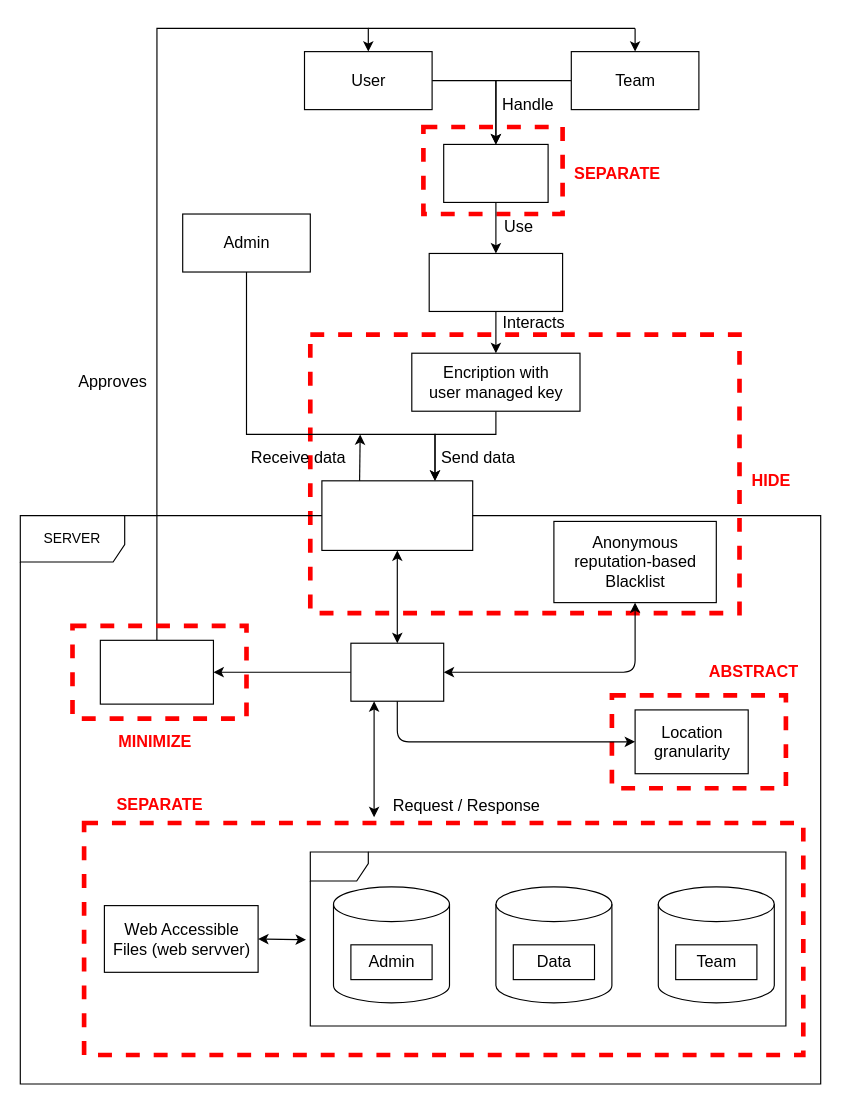
The diagram is 841 pixels wide and 1104 high, and some of its shapes have lost their labels. The centre of each missing label's shape, as x and y in pixels:
"Authenticator" belongs at (495,281).
"DB" belongs at (547,938).
"GUI" belongs at (397,671).
"Metadata Manager" belongs at (156,671).
"Onion Routing" belongs at (397,515).
"Personal Data Store" belongs at (495,172).
